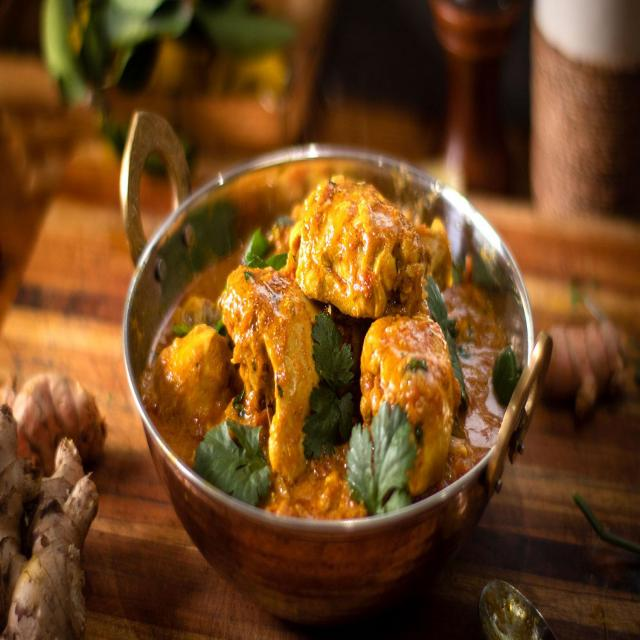chicken: (140, 175, 522, 493)
